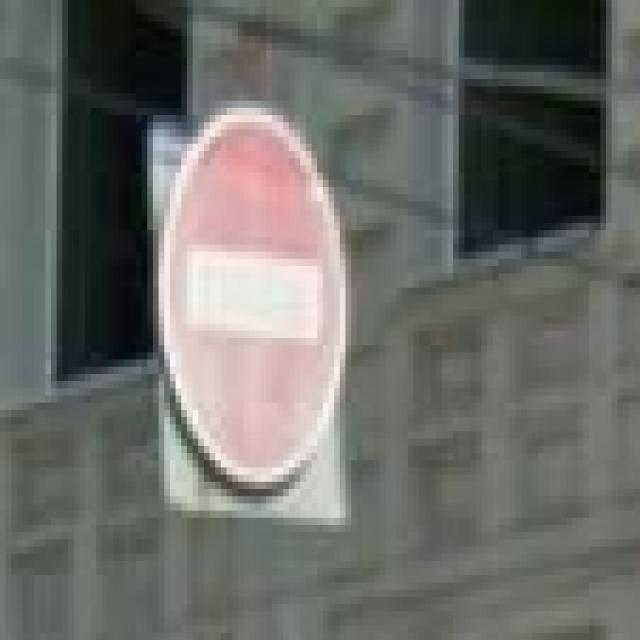traffic_sign: (159, 101, 351, 489)
